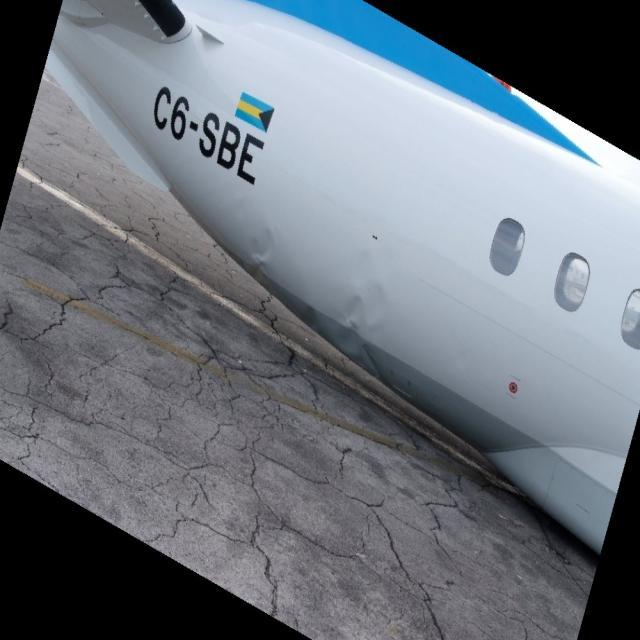dent: (304, 249, 396, 375), (246, 219, 285, 282)
